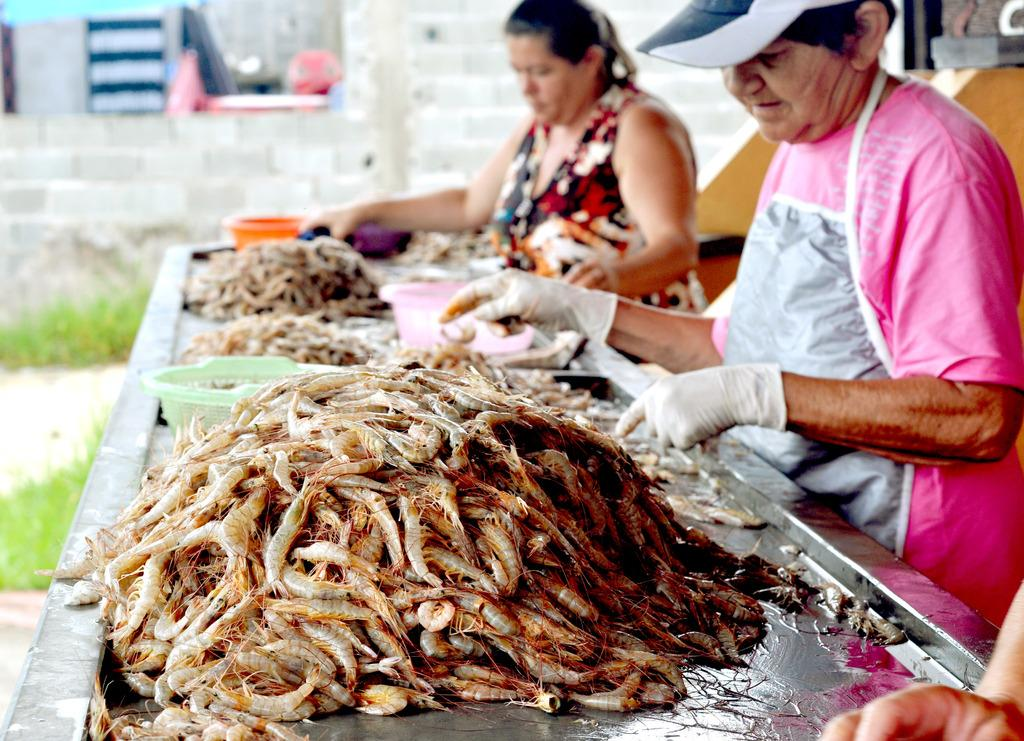Hat: (634, 0, 854, 67)
